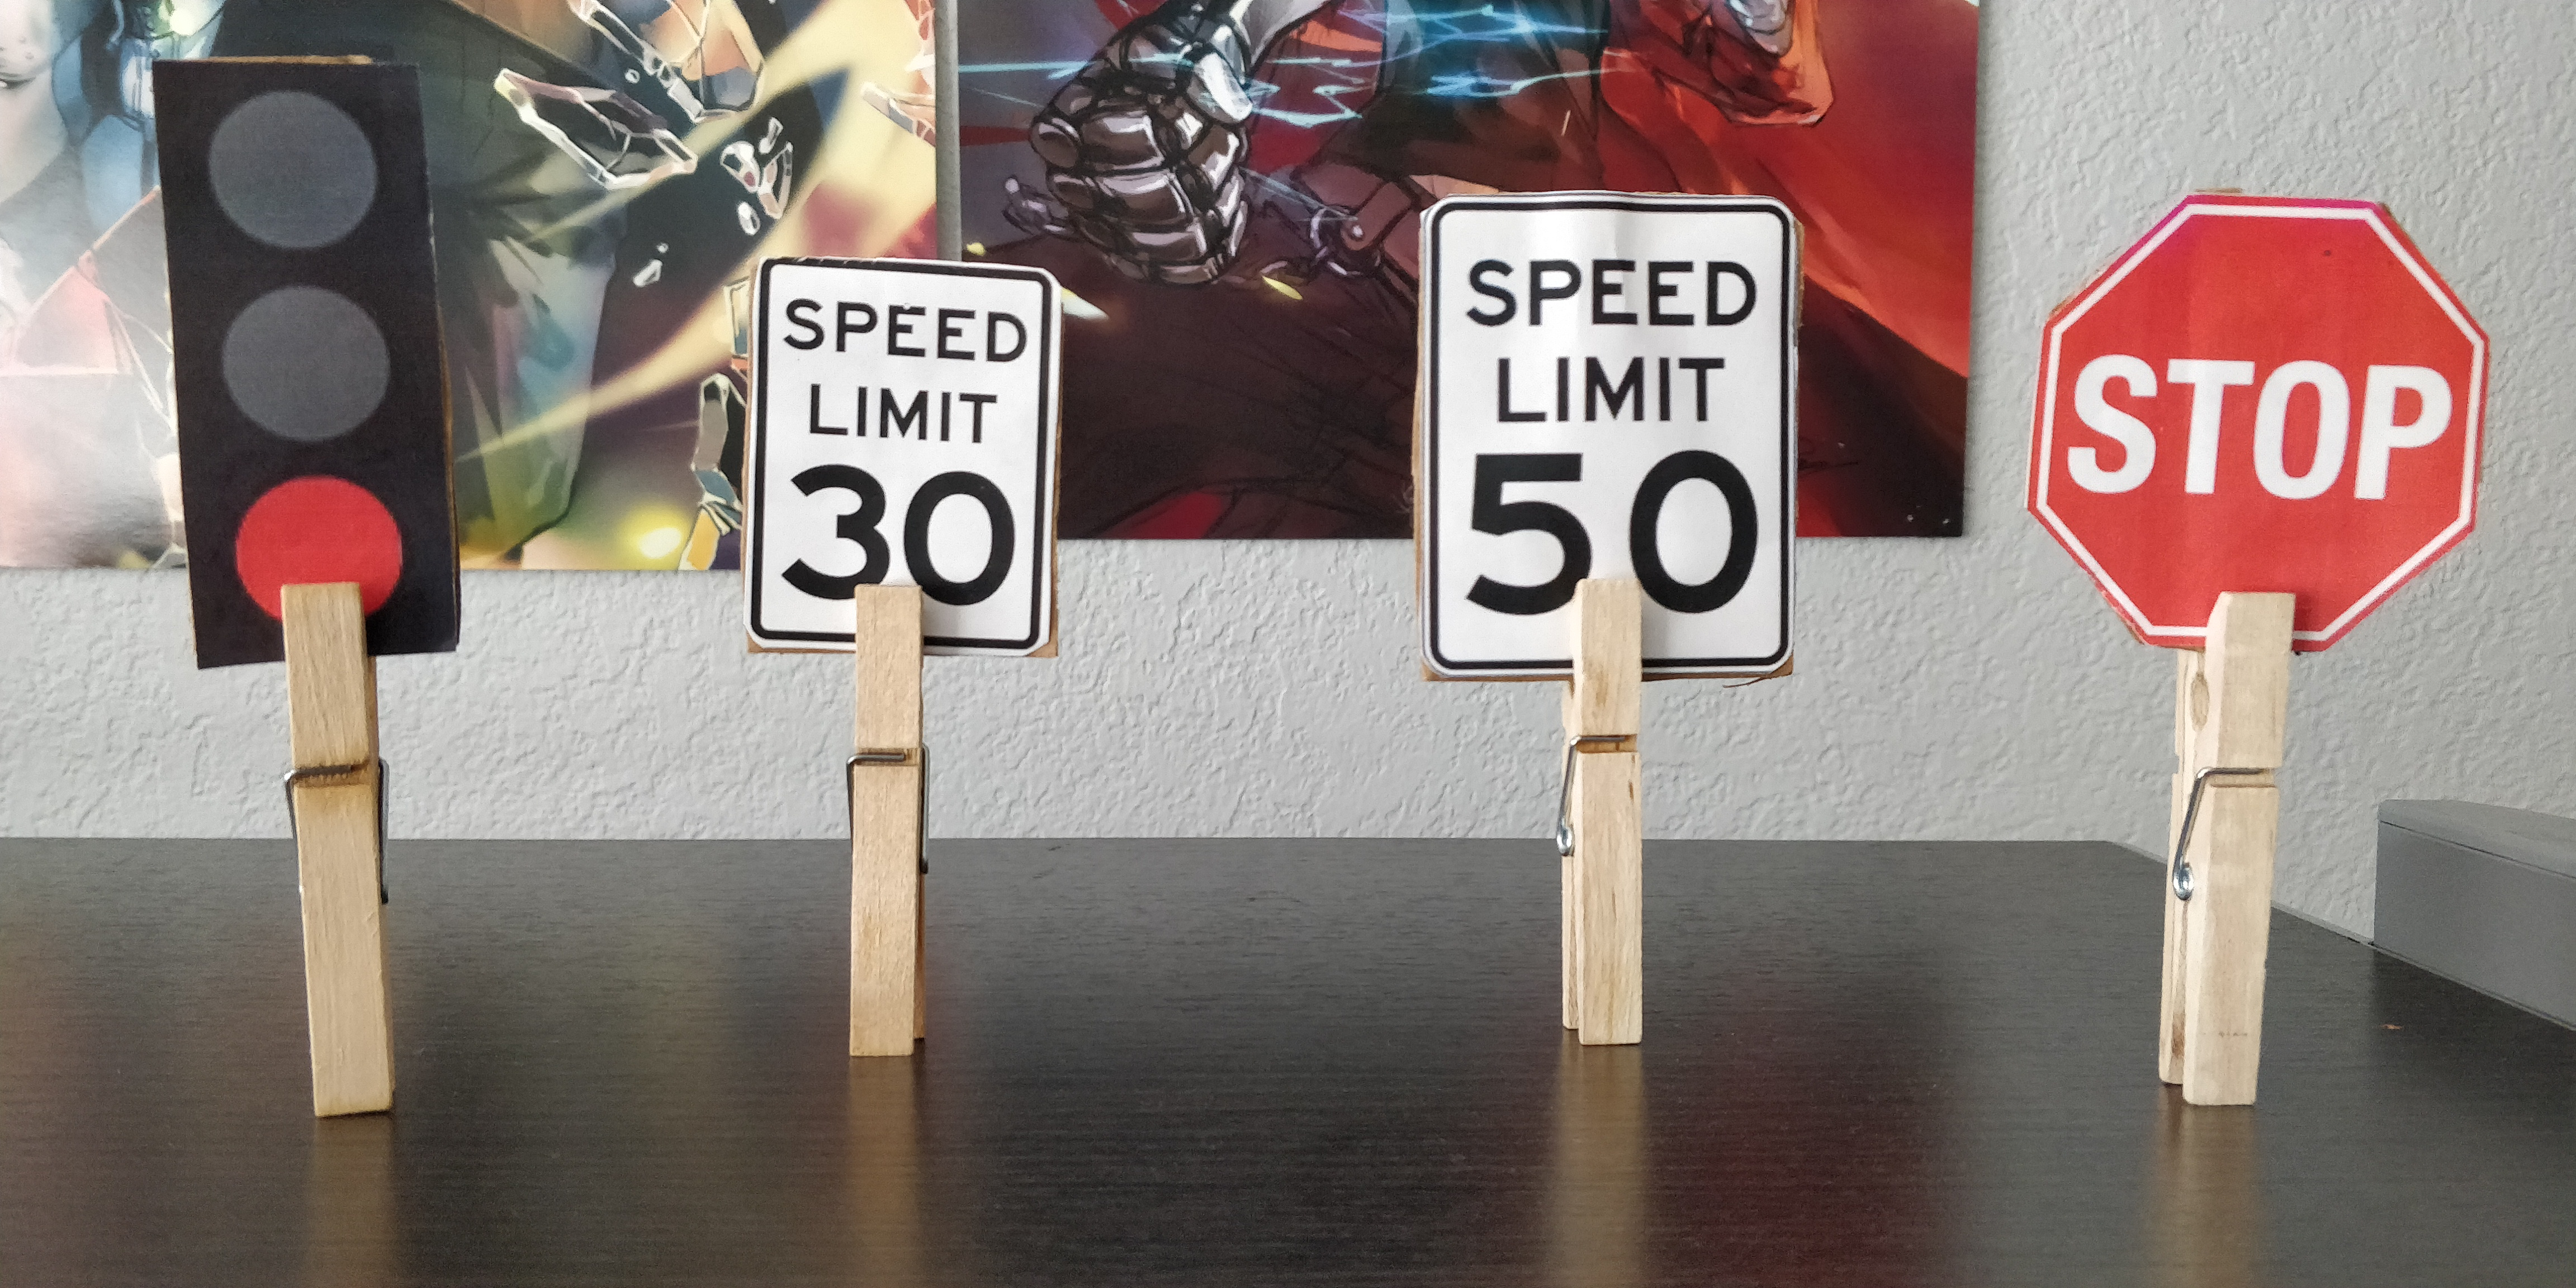Speed Limit 30: (754, 263, 1056, 660)
Speed Limit 50: (1419, 194, 1801, 687)
Stop Sign: (2027, 195, 2487, 647)
red light: (149, 61, 463, 669)
